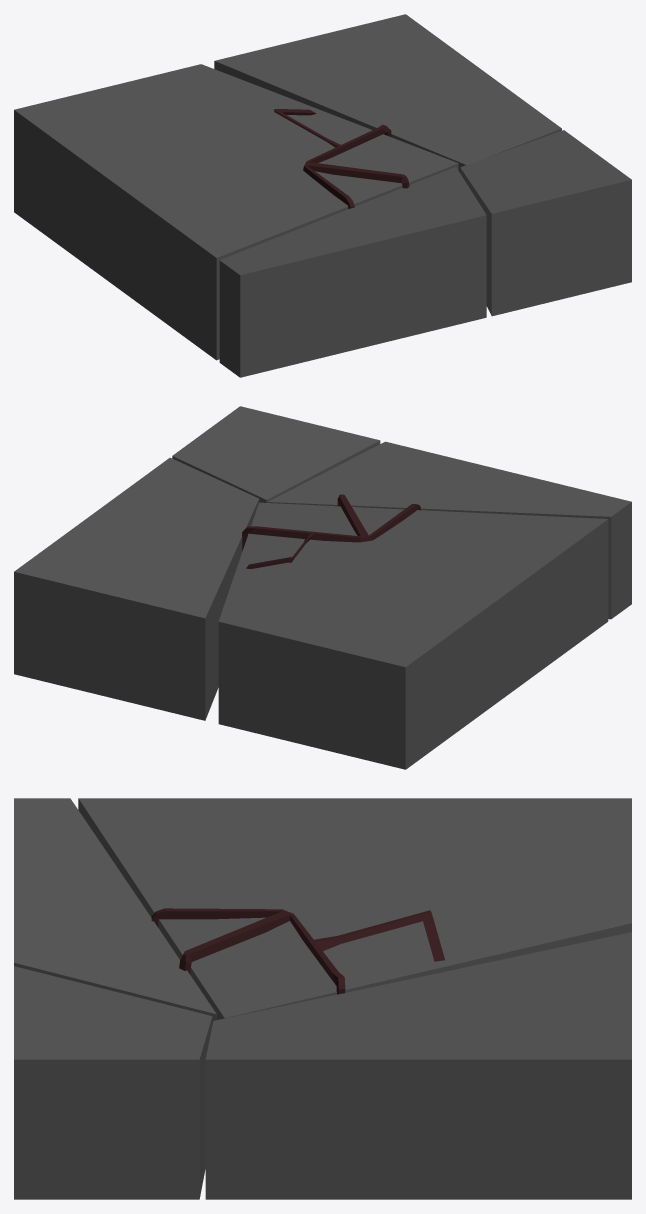
Rendered from floor-roots.fbx.
3 renders of one model, top to bottom at view 1: azimuth 30°, elevation 25°; view 2: azimuth 150°, elevation 25°; view 3: azimuth 270°, elevation 25°, orthographic. The views are drawn at different scales.
Visible parts, largest first — view 1: Cube, Cube.001; view 2: Cube, Cube.001; view 3: Cube, Cube.001.
Boxes of the visible parts, left/top/right/bottom form: Cube: left=14, top=14, right=631, bottom=377; Cube.001: left=274, top=109, right=409, bottom=208; Cube: left=14, top=406, right=631, bottom=769; Cube.001: left=242, top=494, right=420, bottom=568; Cube: left=14, top=798, right=631, bottom=1199; Cube.001: left=151, top=908, right=444, bottom=994.
Size of the model in its own units: 400 by 109 by 400.
